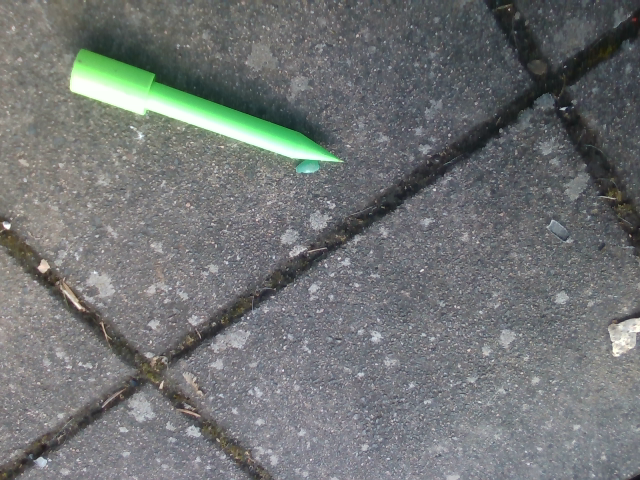Probe: (64, 44, 347, 168)
